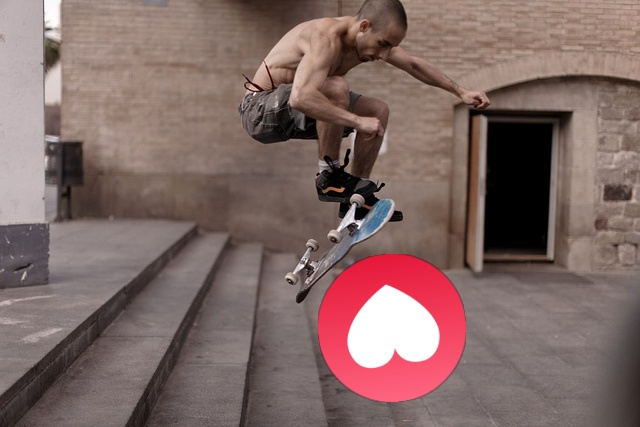love: (318, 254, 466, 402)
